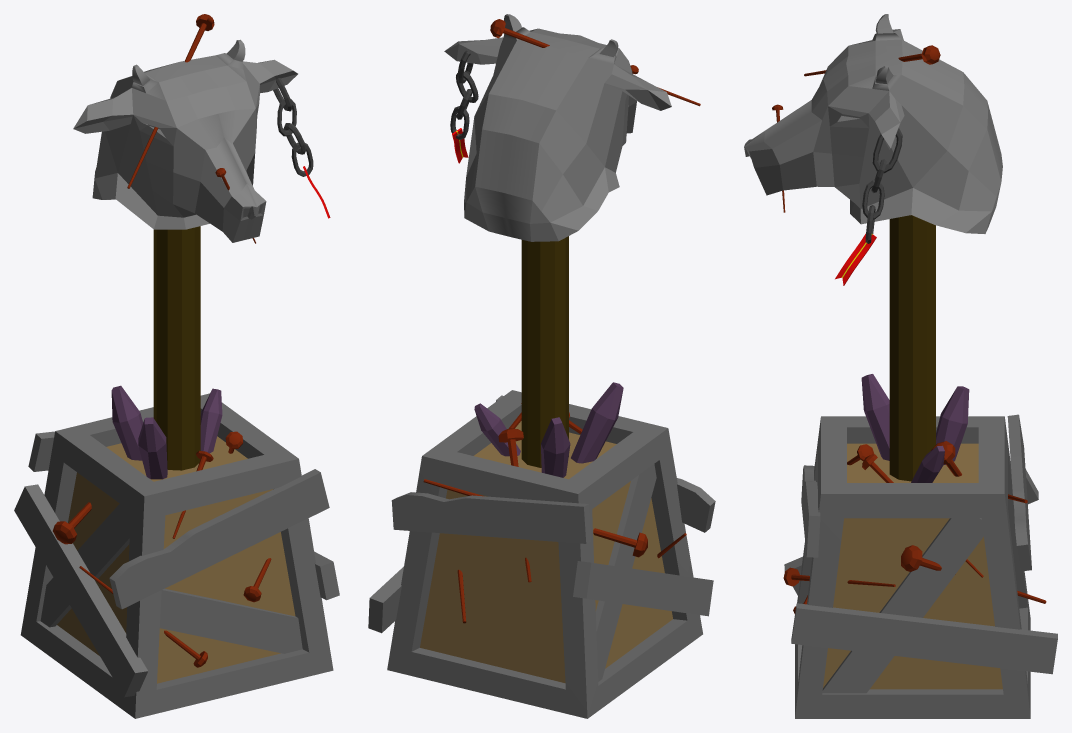
Rendered from Totem.fbx.
The picture shows the model from 3 angles, left to right: view 1: azimuth 30°, elevation 25°; view 2: azimuth 150°, elevation 25°; view 3: azimuth 270°, elevation 25°; orthographic projection. The views are drawn at different scales.
Parts seen in each view (by area): view 1: polySurface38, polySurface55, polySurface53, polySurface34, polySurface35, polySurface42, polySurface37, polySurface36, polySurface39, polySurface52, polySurface45, polySurface33 (+3 smaller); view 2: polySurface38, polySurface55, polySurface53, polySurface33, polySurface35, polySurface37, polySurface39, polySurface34, polySurface45, polySurface36, polySurface52, polySurface50 (+2 smaller); view 3: polySurface38, polySurface55, polySurface53, polySurface45, polySurface46, polySurface33, polySurface39, polySurface36, polySurface34, polySurface40, polySurface52, polySurface57 (+4 smaller).
Boxes of the visible parts, bbox=[...] form: polySurface38: bbox=[20, 393, 333, 718]; polySurface55: bbox=[73, 53, 297, 242]; polySurface53: bbox=[153, 226, 200, 470]; polySurface34: bbox=[109, 469, 329, 609]; polySurface35: bbox=[14, 484, 148, 697]; polySurface42: bbox=[159, 588, 302, 653]; polySurface37: bbox=[40, 504, 130, 627]; polySurface36: bbox=[111, 385, 142, 460]; polySurface39: bbox=[138, 417, 167, 479]; polySurface52: bbox=[200, 388, 222, 453]; polySurface45: bbox=[314, 551, 339, 600]; polySurface33: bbox=[28, 431, 54, 471]; polySurface38: bbox=[387, 390, 702, 718]; polySurface55: bbox=[444, 27, 671, 241]; polySurface53: bbox=[521, 236, 568, 467]; polySurface33: bbox=[391, 492, 591, 543]; polySurface35: bbox=[573, 561, 713, 616]; polySurface37: bbox=[595, 464, 656, 681]; polySurface39: bbox=[571, 382, 623, 463]; polySurface34: bbox=[496, 395, 715, 532]; polySurface45: bbox=[368, 566, 403, 633]; polySurface36: bbox=[541, 417, 570, 477]; polySurface52: bbox=[474, 403, 520, 456]; polySurface50: bbox=[423, 479, 647, 557]; polySurface38: bbox=[795, 416, 1030, 718]; polySurface55: bbox=[744, 29, 1002, 233]; polySurface53: bbox=[889, 215, 935, 481]; polySurface45: bbox=[791, 603, 1057, 674]; polySurface46: bbox=[822, 518, 983, 693]; polySurface33: bbox=[1007, 414, 1031, 571]; polySurface39: bbox=[861, 374, 889, 460]; polySurface36: bbox=[936, 386, 969, 464]; polySurface34: bbox=[801, 465, 820, 557]; polySurface40: bbox=[901, 545, 1046, 603]; polySurface52: bbox=[911, 445, 944, 482]; polySurface57: bbox=[835, 233, 876, 285].
Size of the model in its own units: 94.35 by 236 by 105.
